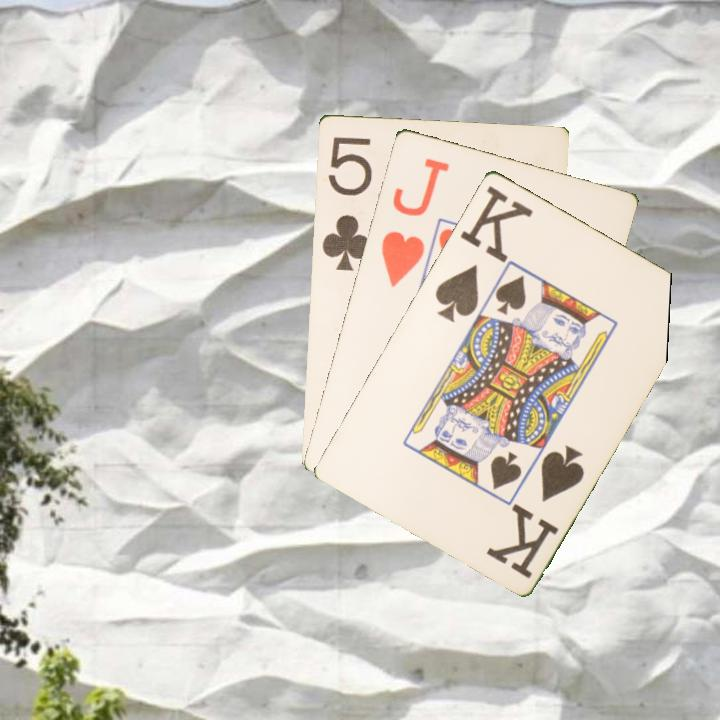5c: (318, 133, 375, 274)
Jh: (377, 153, 451, 290)
Ks: (431, 181, 535, 325), (483, 440, 588, 581)
